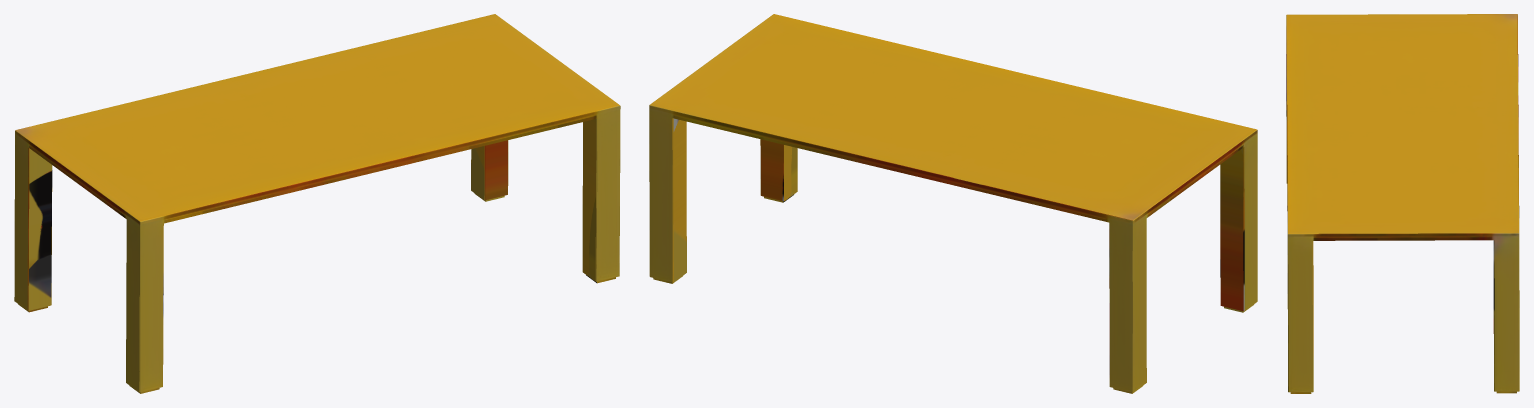
Rendered from edited_mesh.glb.
The picture shows the model from 3 angles, left to right: view 1: azimuth 30°, elevation 25°; view 2: azimuth 150°, elevation 25°; view 3: azimuth 270°, elevation 25°; orthographic projection. The views are drawn at different scales.
Visible parts, largest first — view 1: normalized_model.obj; view 2: normalized_model.obj; view 3: normalized_model.obj.
Part boxes in pixels (x1,y1,x2,y2): normalized_model.obj: [14, 14, 620, 393]; normalized_model.obj: [649, 14, 1257, 393]; normalized_model.obj: [1286, 14, 1519, 393].
Bounding box in the file's own units: 2 × 0.6972 × 0.9035.
Materials: 1 (1 with a texture image).
